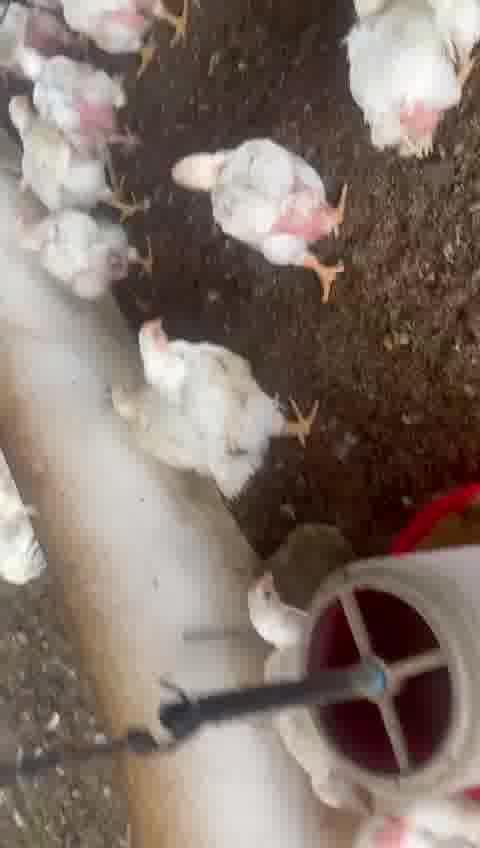AbNormal: (220, 545, 353, 797), (97, 367, 203, 483)
Normal: (135, 119, 363, 290), (140, 314, 342, 474), (4, 191, 162, 304), (11, 37, 148, 145), (1, 91, 99, 215)
